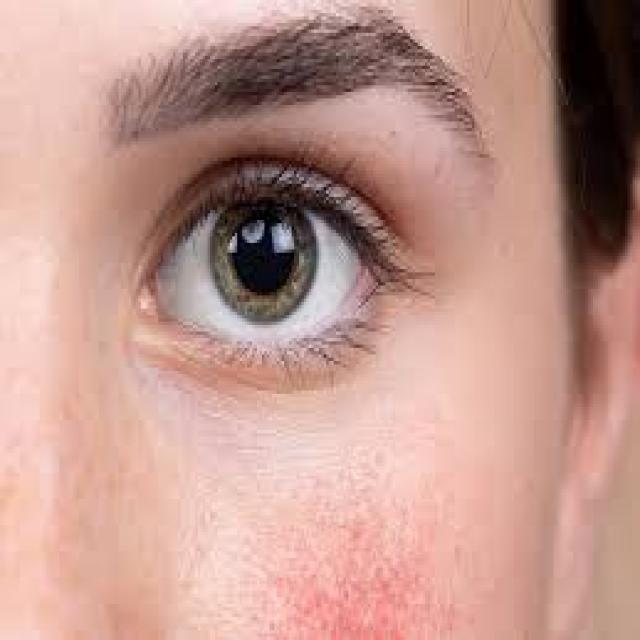Rosacea: (260, 473, 468, 640)
